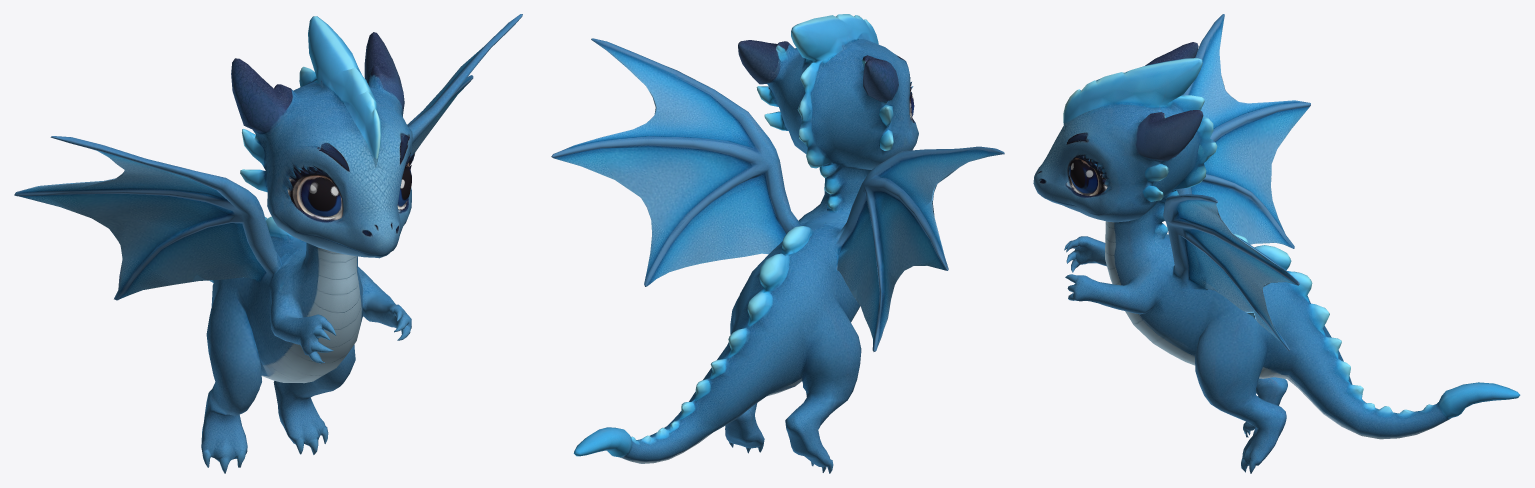
The model's file is frosty.glb.
3 renders of one model, left to right at view 1: azimuth 30°, elevation 25°; view 2: azimuth 150°, elevation 25°; view 3: azimuth 270°, elevation 25°, orthographic. The views are drawn at different scales.
Bounding box in the file's own units: 0.9219 × 0.875 × 0.9575.
1 material, 1 textured.
